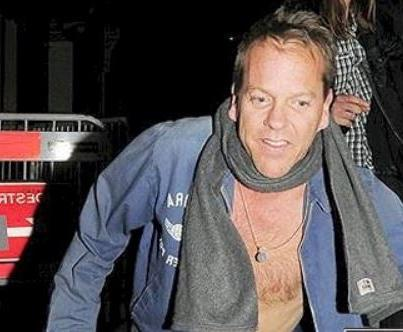Drunk: (246, 48, 318, 177)
